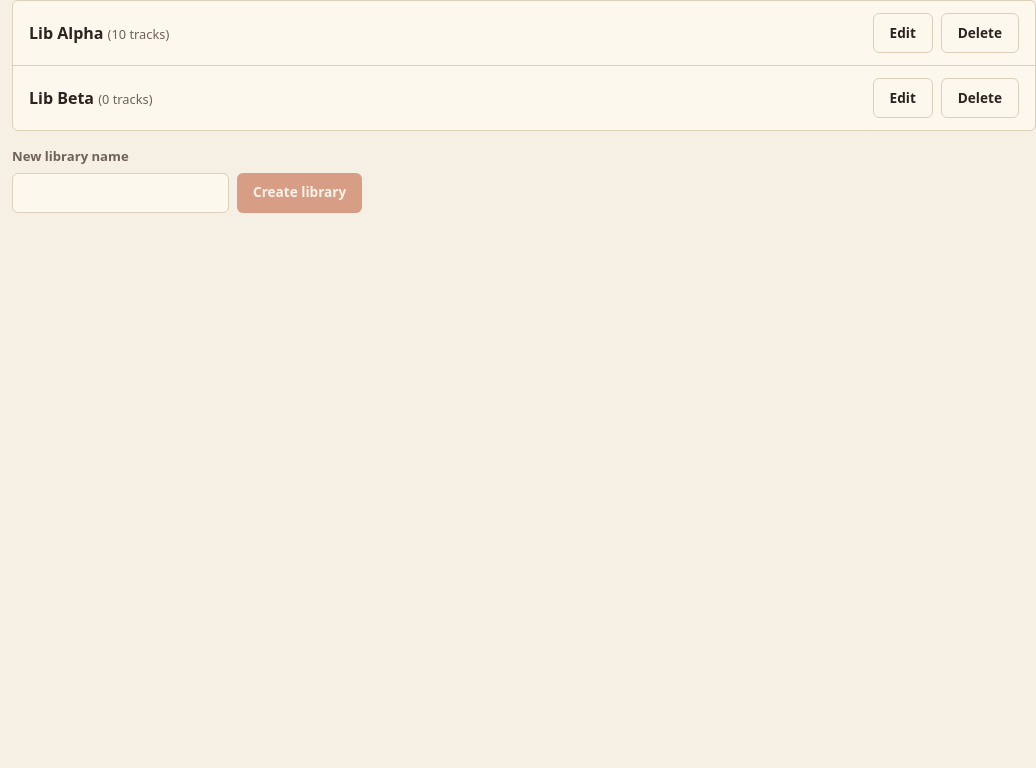
Test case: Feature: Manage libraries from the Catalog page's Libraries tab › Scenario: creating a library › submitting the create form POSTs /api/libraries with the entered name
In the field labelled "New library name": (120, 193) [12, 173, 229, 213], type "New Library"
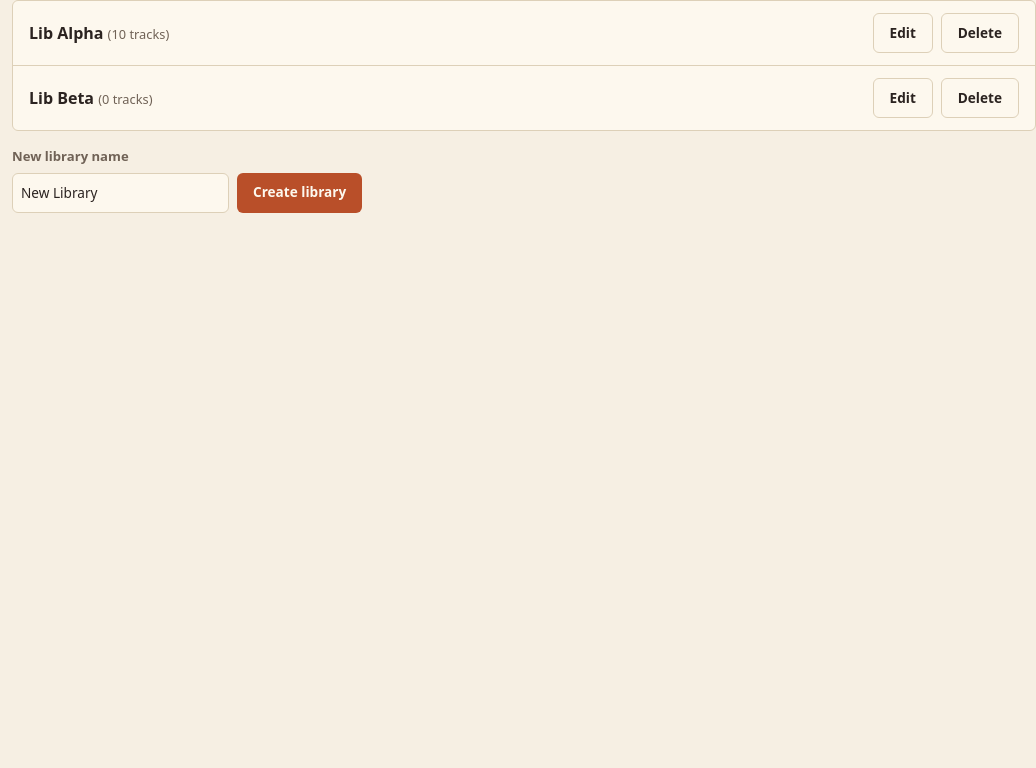
Submit the form "Create library", box [12, 147, 362, 213]
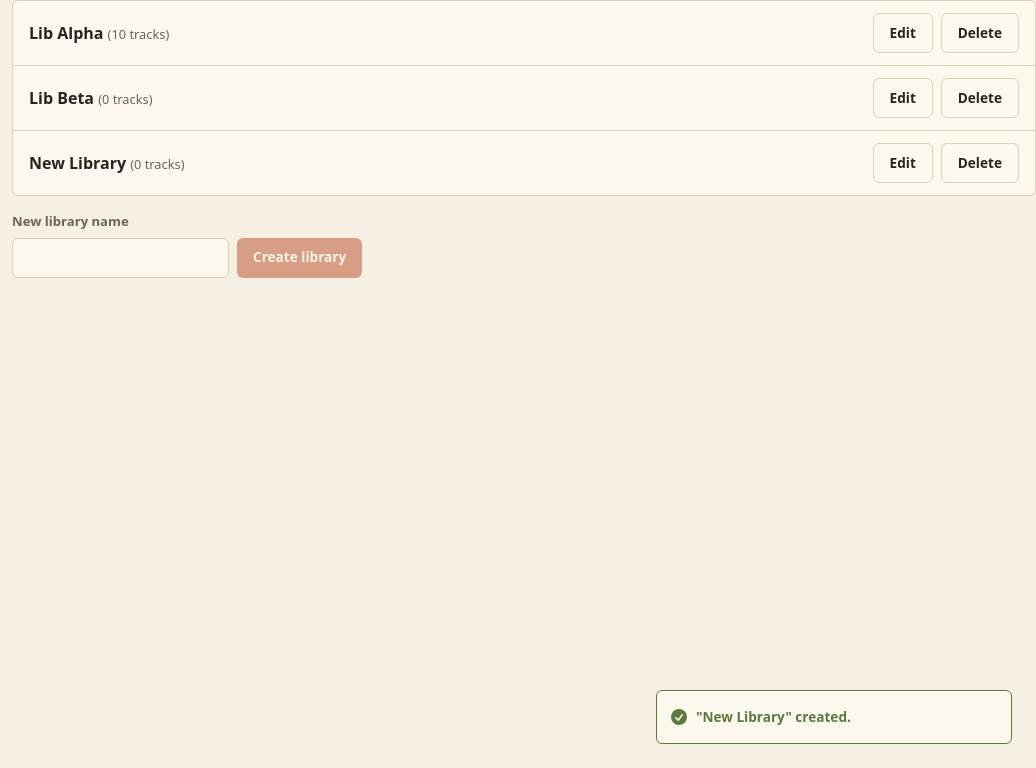
Check: the text "New Library" is shown, box [29, 152, 126, 174]
Check: the text "\"New Library\" created." is shown, box [696, 707, 851, 727]
